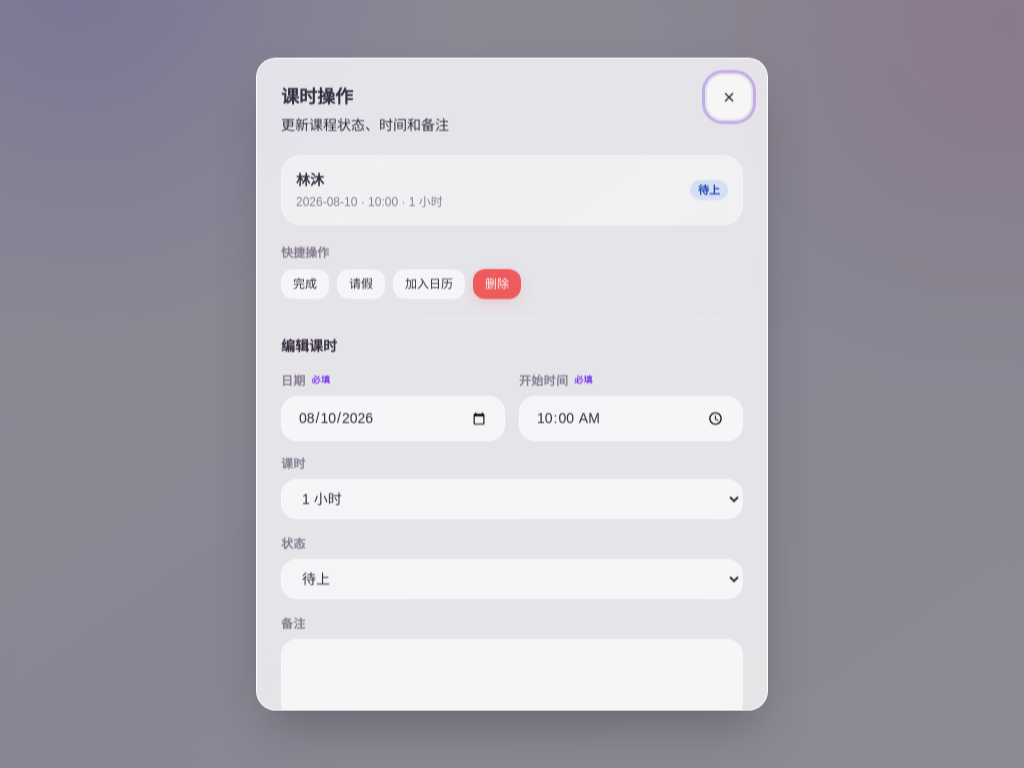
LessonEditModal › prevents duplicate deletion while the confirmed request is pending
This screenshot has width=1024, height=768.
Click the button "删除". click: click(497, 284)
box: left=473, top=269, right=521, bottom=299
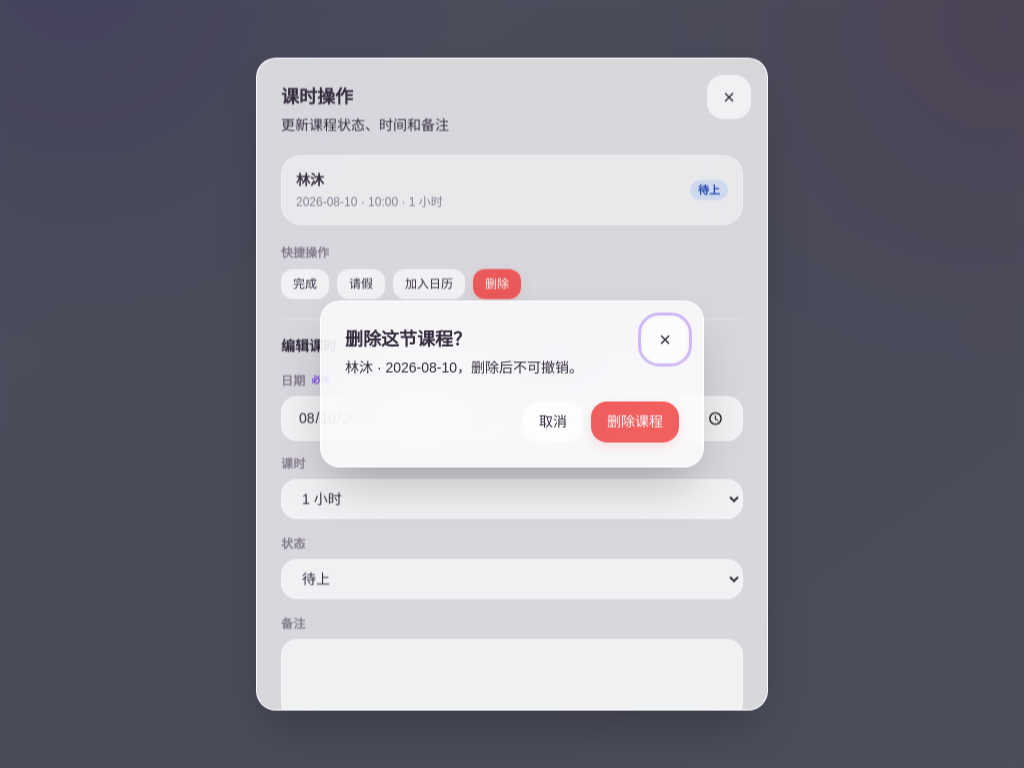
Click the button "删除课程". click: click(635, 422)
box: left=591, top=402, right=679, bottom=442
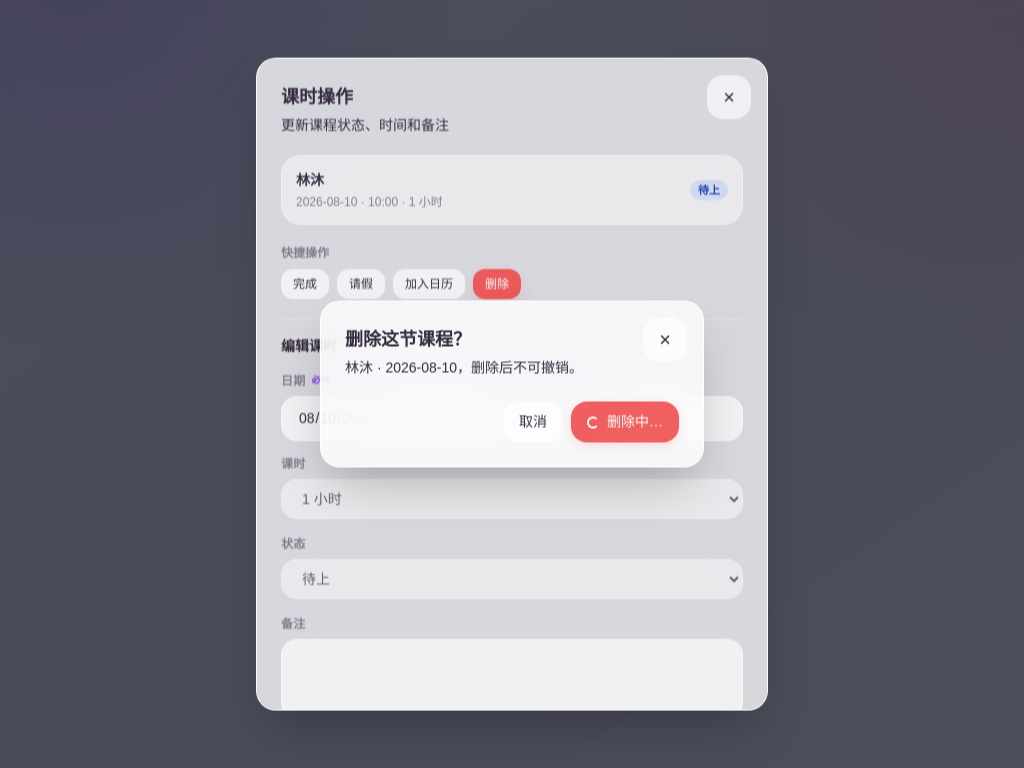
Expected: the button "删除中…" is disabled, left=571, top=402, right=679, bottom=442
